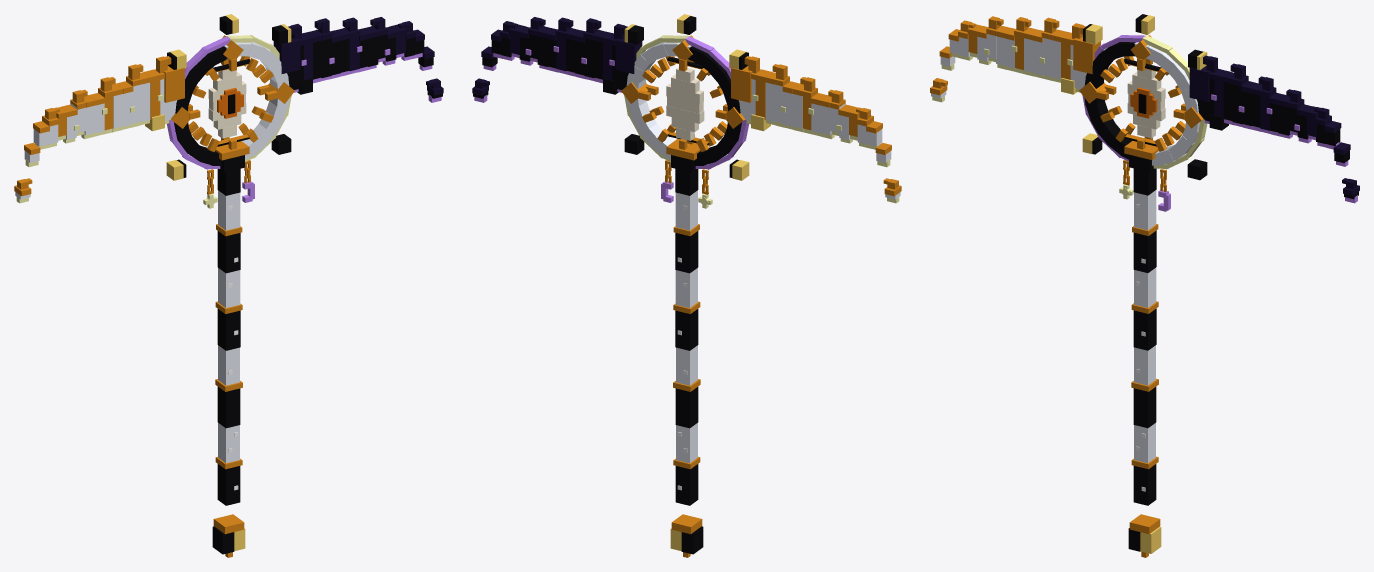
Rendered from eclipse-reaper.obj.
3 renders of one model, left to right at view 1: azimuth 30°, elevation 25°; view 2: azimuth 150°, elevation 25°; view 3: azimuth 330°, elevation 25°, orthographic.
Parts seen in each view (by area): view 1: shaft_3, shaft_7, shaft_5, shaft_1, shaft_6, shaft_8, shaft_4, shaft_2, moon_crescent_253, sun_crescent_185, shaft_9; view 2: shaft_3, shaft_7, shaft_5, shaft_1, shaft_6, shaft_8, shaft_4, shaft_2, moon_crescent_253, sun_crescent_185, shaft_9; view 3: shaft_7, shaft_3, shaft_5, shaft_1, shaft_8, shaft_6, shaft_4, shaft_2, sun_crescent_185, moon_crescent_253, shaft_9.
Part boxes in pixels (bbox=[...]): shaft_3: bbox=[217, 387, 240, 428]; shaft_7: bbox=[217, 231, 240, 273]; shaft_5: bbox=[217, 309, 240, 350]; shaft_1: bbox=[217, 464, 240, 505]; shaft_6: bbox=[218, 268, 240, 307]; shaft_8: bbox=[218, 190, 240, 230]; shaft_4: bbox=[218, 345, 239, 385]; shaft_2: bbox=[218, 423, 239, 463]; moon_crescent_253: bbox=[273, 37, 300, 73]; sun_crescent_185: bbox=[163, 66, 184, 102]; shaft_9: bbox=[217, 168, 240, 195]; shaft_3: bbox=[675, 387, 698, 428]; shaft_7: bbox=[675, 231, 698, 273]; shaft_5: bbox=[675, 309, 698, 350]; shaft_1: bbox=[675, 464, 698, 505]; shaft_6: bbox=[675, 268, 697, 307]; shaft_8: bbox=[675, 190, 697, 230]; shaft_4: bbox=[676, 345, 697, 385]; shaft_2: bbox=[676, 423, 697, 463]; moon_crescent_253: bbox=[615, 37, 642, 73]; sun_crescent_185: bbox=[731, 66, 752, 102]; shaft_9: bbox=[675, 168, 698, 195]; shaft_7: bbox=[1133, 230, 1156, 272]; shaft_3: bbox=[1133, 387, 1156, 428]; shaft_5: bbox=[1133, 308, 1156, 350]; shaft_1: bbox=[1133, 464, 1156, 505]; shaft_8: bbox=[1134, 190, 1156, 230]; shaft_6: bbox=[1134, 267, 1156, 307]; shaft_4: bbox=[1134, 345, 1155, 385]; shaft_2: bbox=[1134, 423, 1155, 463]; sun_crescent_185: bbox=[1073, 37, 1100, 74]; moon_crescent_253: bbox=[1189, 65, 1210, 101]; shaft_9: bbox=[1133, 168, 1156, 195].
Bounding box in the file's own units: 5.7 × 6.94 × 0.3125.
